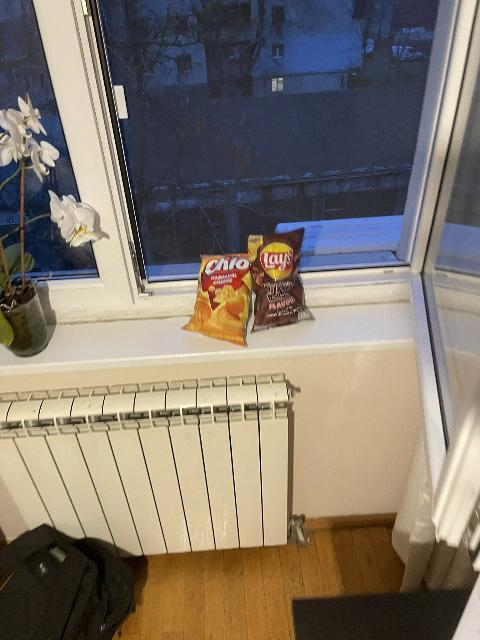Chio Cascaval 125g: (182, 251, 256, 347)
Lays Beef Grilled Ribs 125g: (247, 227, 316, 335)
